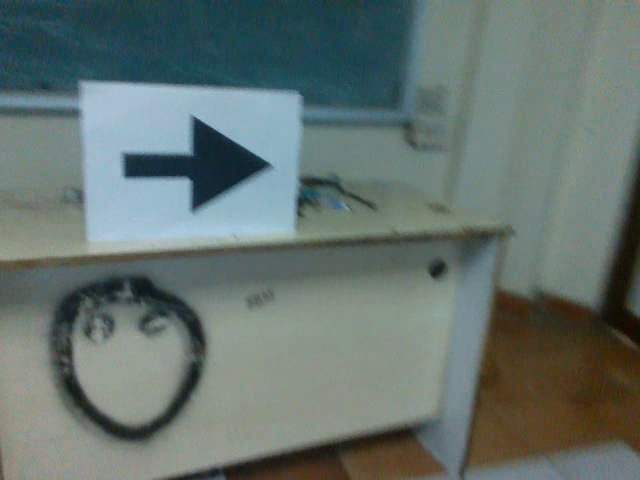Right: (109, 102, 279, 221)
